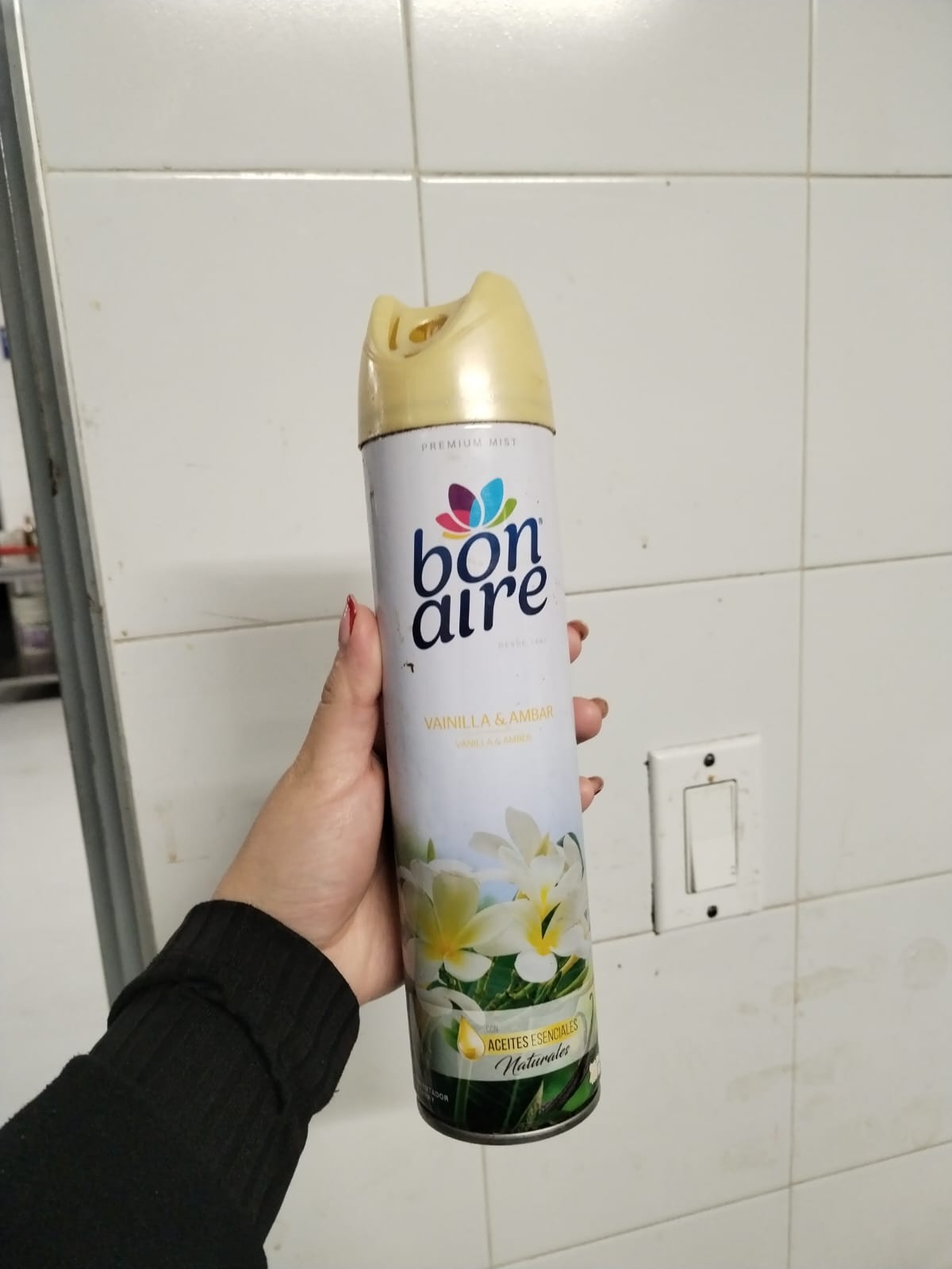Metal: (372, 425, 605, 1143)
Plastico: (364, 267, 561, 418)
